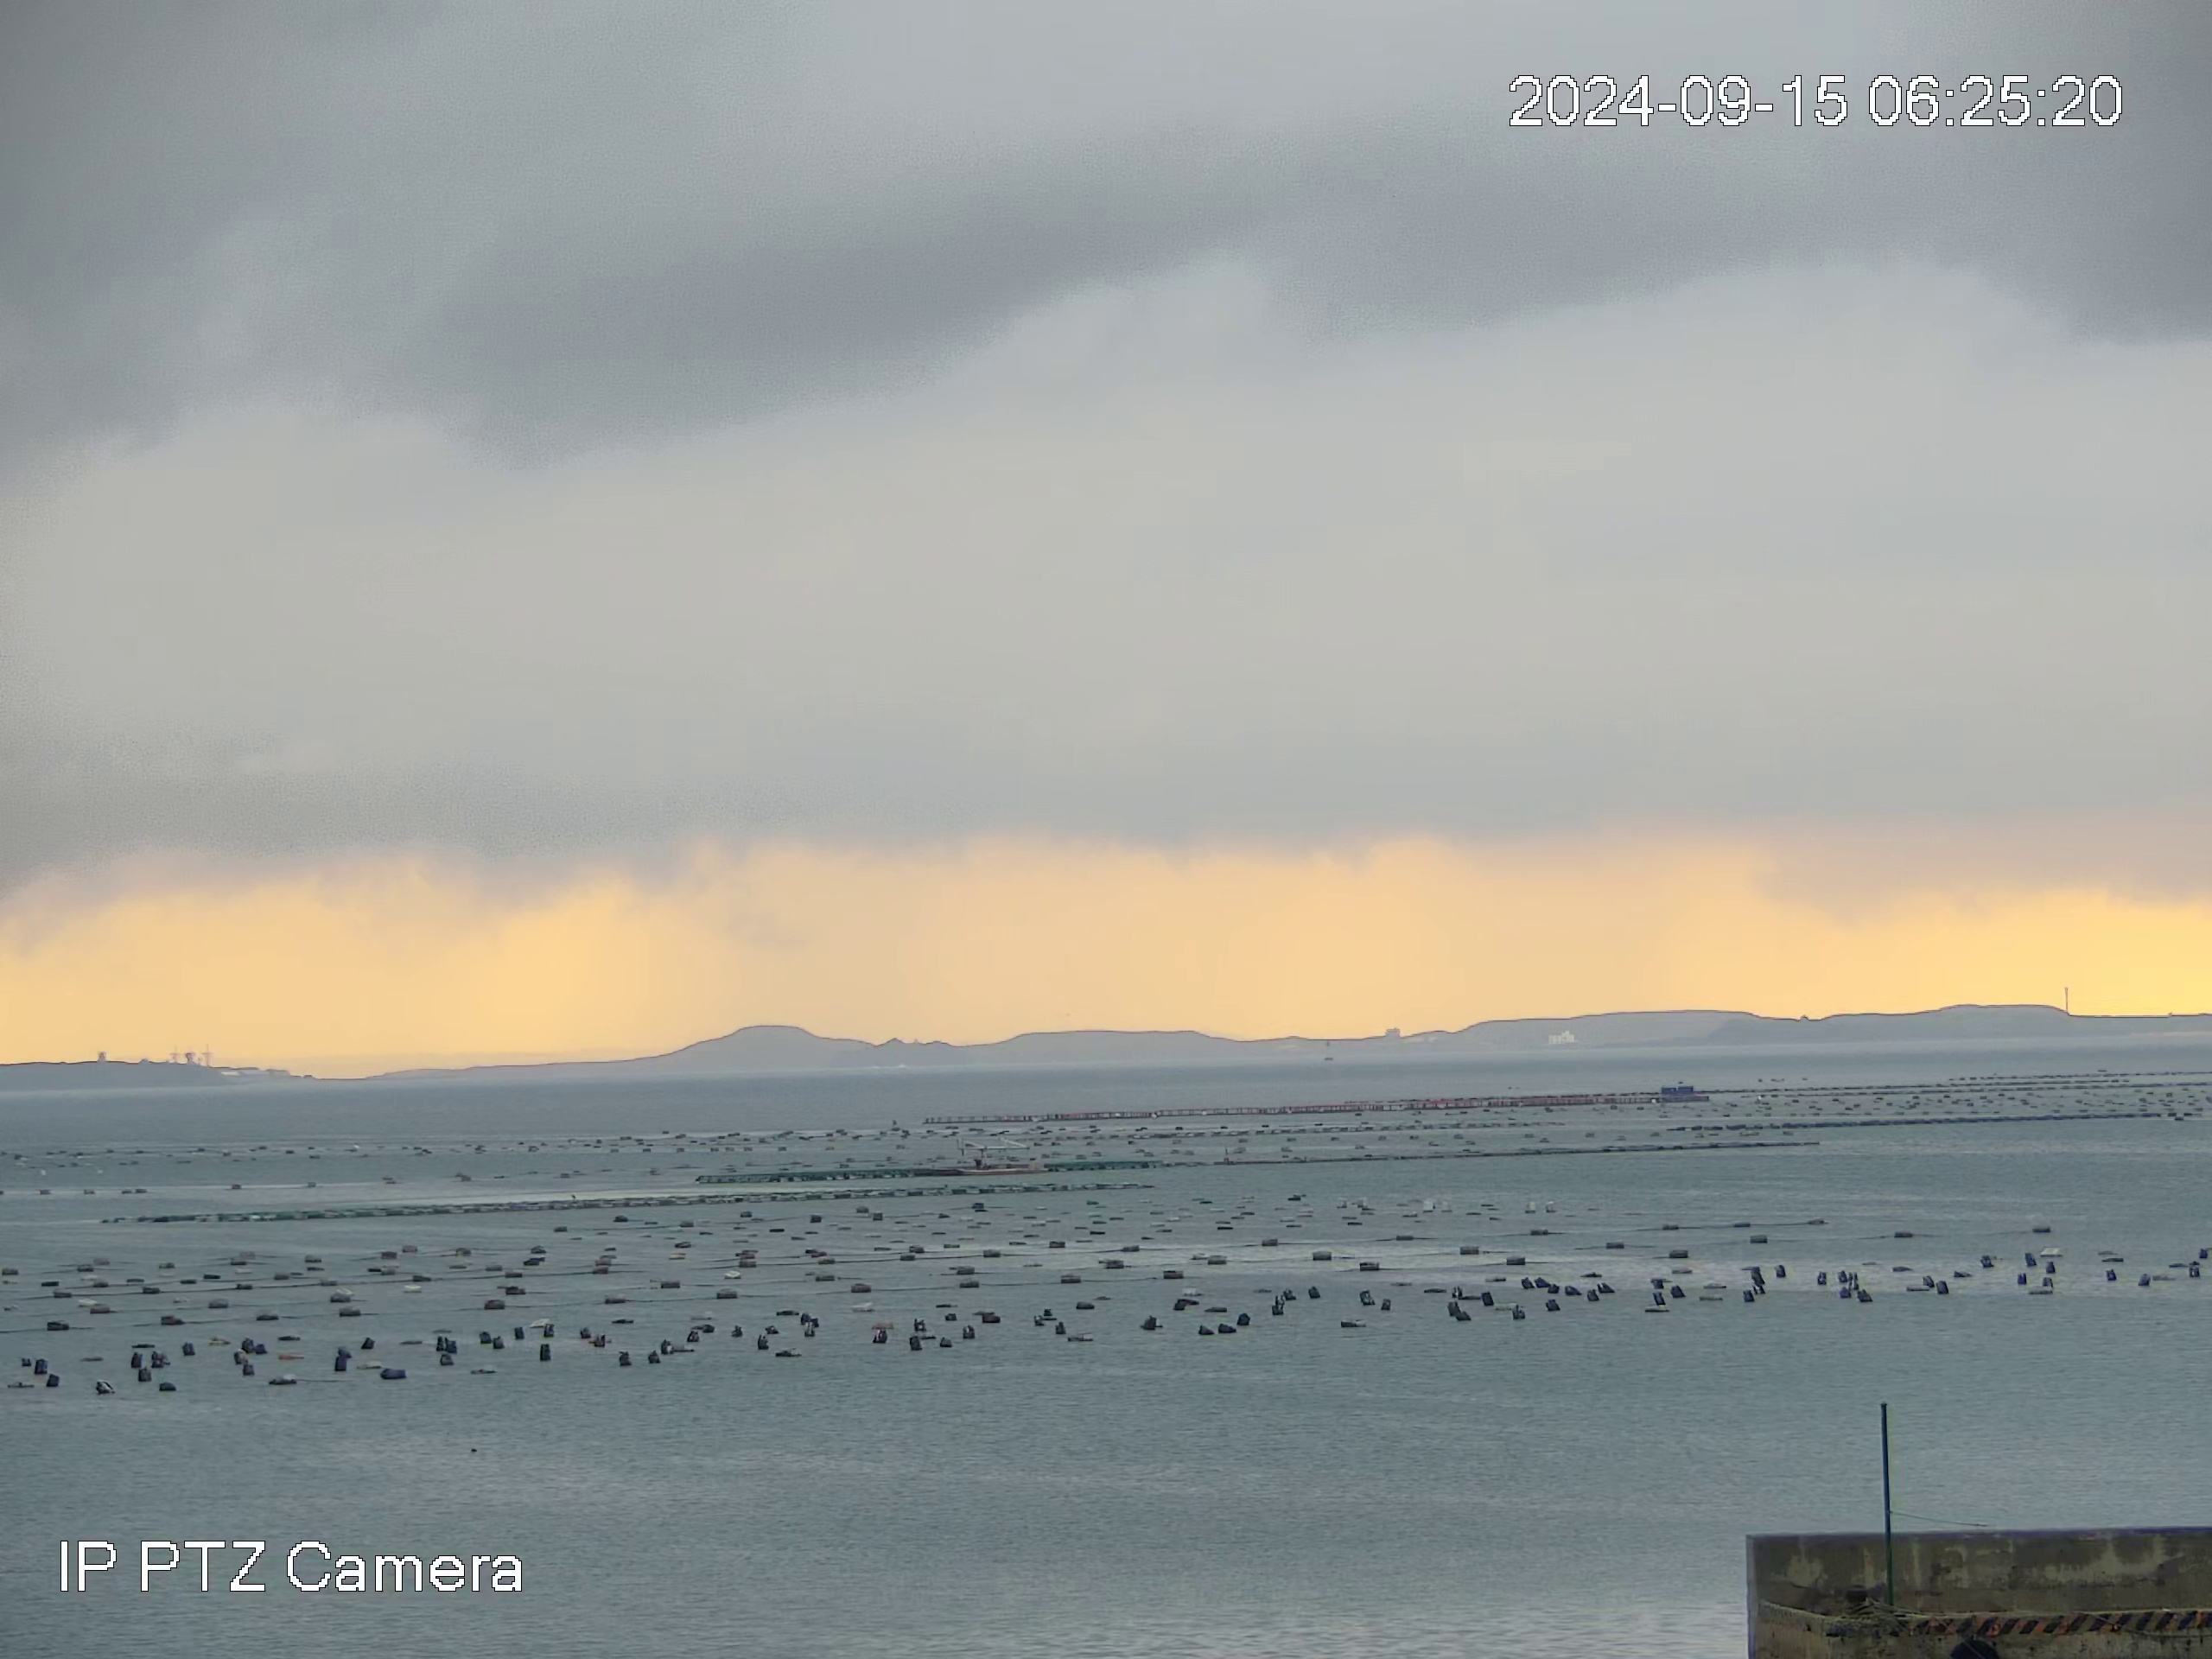boat: (951, 1136, 1050, 1176)
